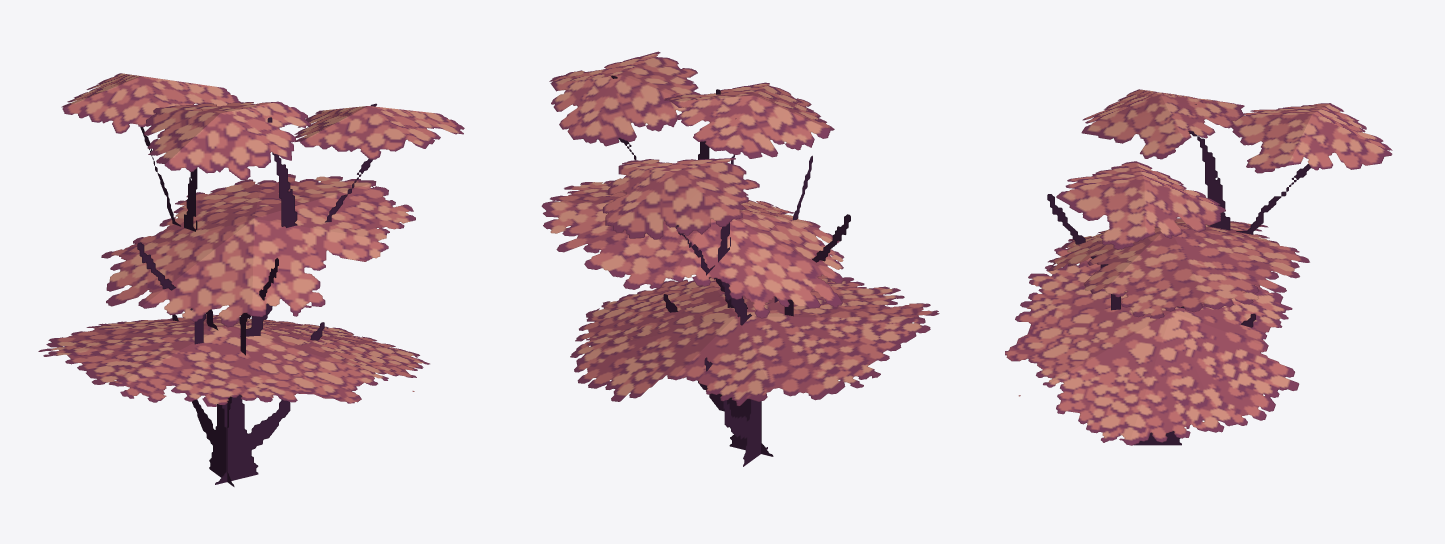
Rendered from bush_03a.fbx.
The picture shows the model from 3 angles, left to right: view 1: azimuth 30°, elevation 25°; view 2: azimuth 150°, elevation 25°; view 3: azimuth 270°, elevation 25°; orthographic projection. The views are drawn at different scales.
Parts seen in each view (by area): view 1: bush_03a; view 2: bush_03a; view 3: bush_03a.
Part boxes in pixels (left/top/right/bottom): bush_03a: left=38, top=73, right=464, bottom=486; bush_03a: left=541, top=51, right=939, bottom=466; bush_03a: left=1005, top=89, right=1392, bottom=445.
Size of the model in its own units: 0.3687 by 0.3206 by 0.3299.
1 material, 1 textured.
